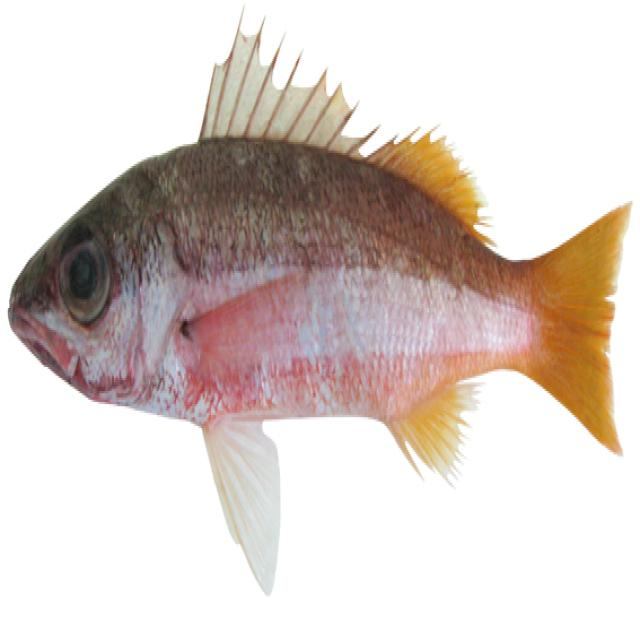ikan: (7, 4, 632, 596)
